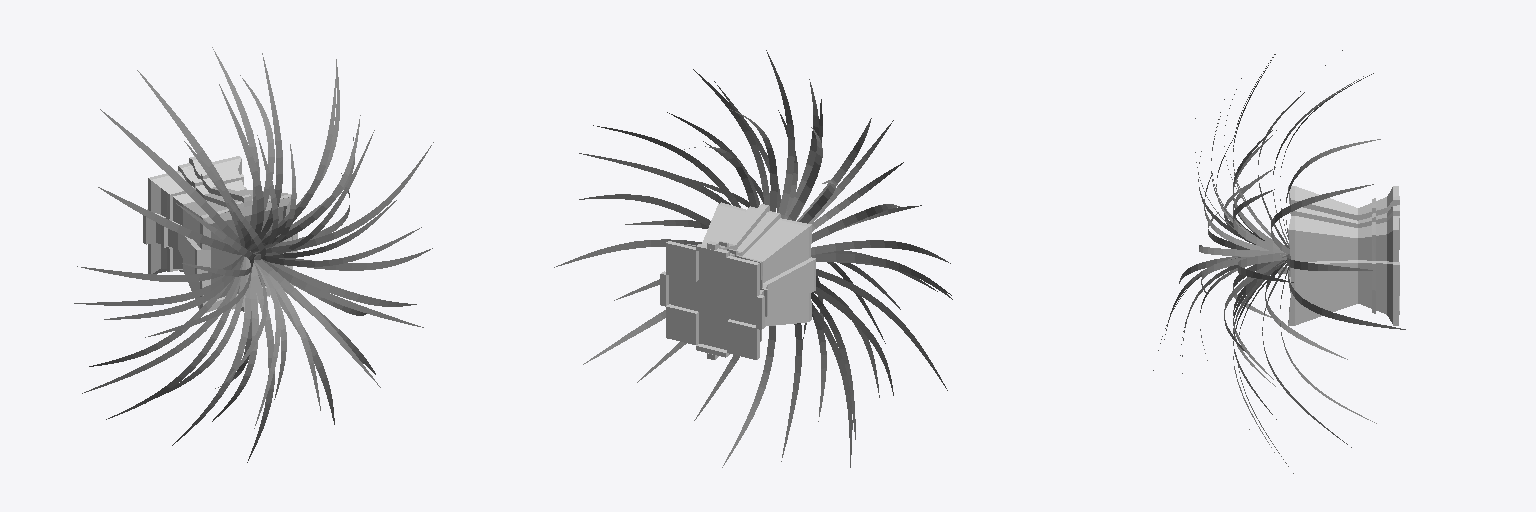
File: D_Plant.obj
The picture shows the model from 3 angles: view 1: azimuth 30°, elevation 25°; view 2: azimuth 150°, elevation 25°; view 3: azimuth 270°, elevation 25°; orthographic projection.
Parts seen in each view (by area): view 1: LEAVES, POT, SOIL; view 2: LEAVES, POT; view 3: POT, LEAVES.
Part boxes in pixels (left/top/right/bottom): LEAVES: left=74, top=47, right=433, bottom=462; POT: left=143, top=156, right=297, bottom=312; SOIL: left=210, top=206, right=283, bottom=298; LEAVES: left=554, top=50, right=952, bottom=467; POT: left=660, top=202, right=815, bottom=359; POT: left=1288, top=186, right=1399, bottom=325; LEAVES: left=1153, top=50, right=1405, bottom=473.
Size of the model in its own units: 191 by 203 by 116.